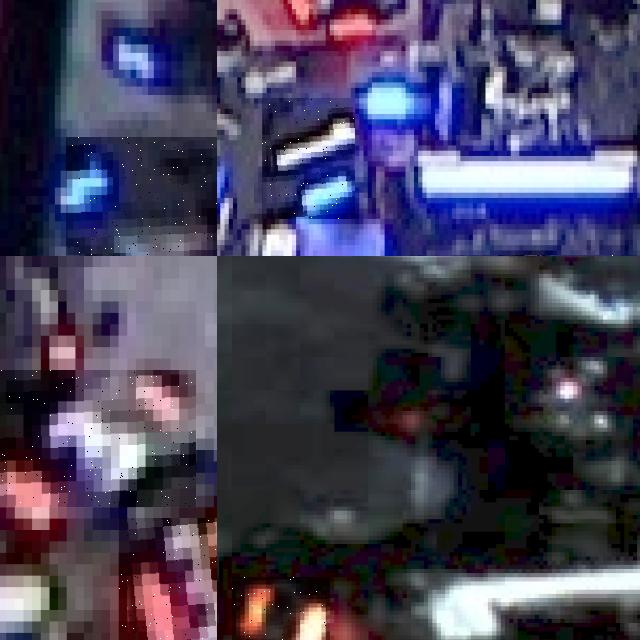B1: (262, 98, 355, 219)
B4: (66, 137, 217, 256)
R3: (0, 370, 196, 507), (118, 518, 217, 640)
Rs: (232, 577, 330, 640)
